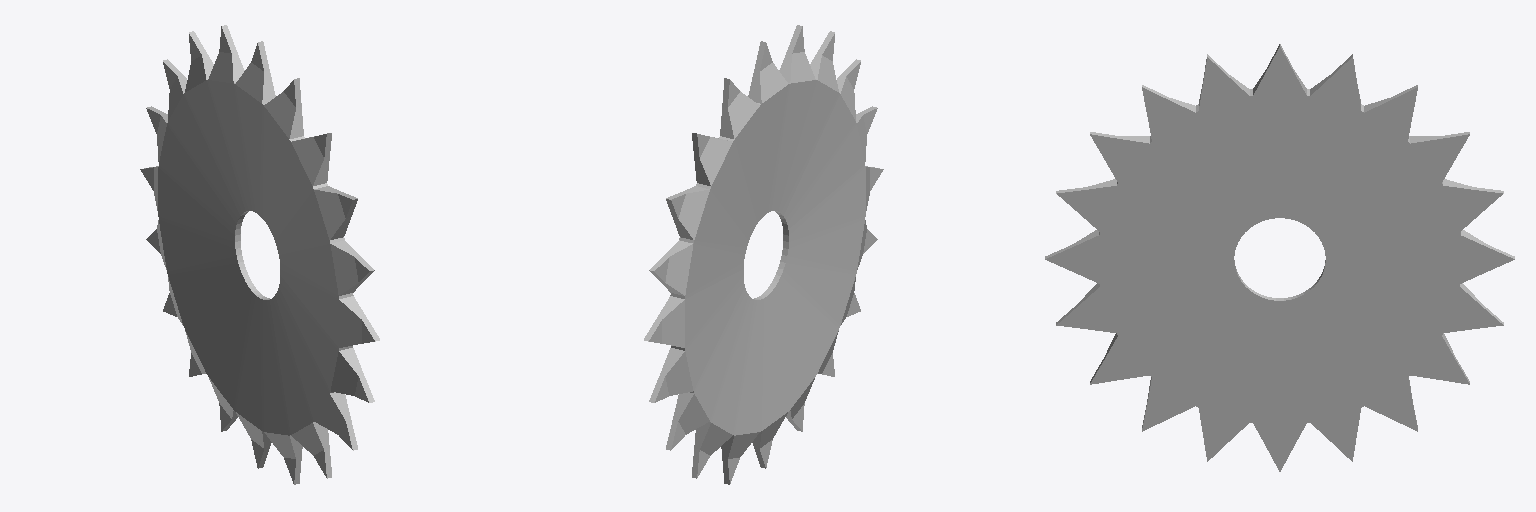
Rendered from gamePlay_Saw.obj.
3 views of the same model, side by side, from view 1: azimuth 30°, elevation 25°; view 2: azimuth 150°, elevation 25°; view 3: azimuth 270°, elevation 25° (orthographic).
Parts seen in each view (by area): view 1: GamePlay_Player_Saw; view 2: GamePlay_Player_Saw; view 3: GamePlay_Player_Saw.
Part boxes in pixels (bbox=[...]): GamePlay_Player_Saw: bbox=[140, 25, 379, 484]; GamePlay_Player_Saw: bbox=[644, 25, 883, 484]; GamePlay_Player_Saw: bbox=[1045, 44, 1514, 471].
Size of the model in its own units: 0.0427 by 1.2 by 1.2.